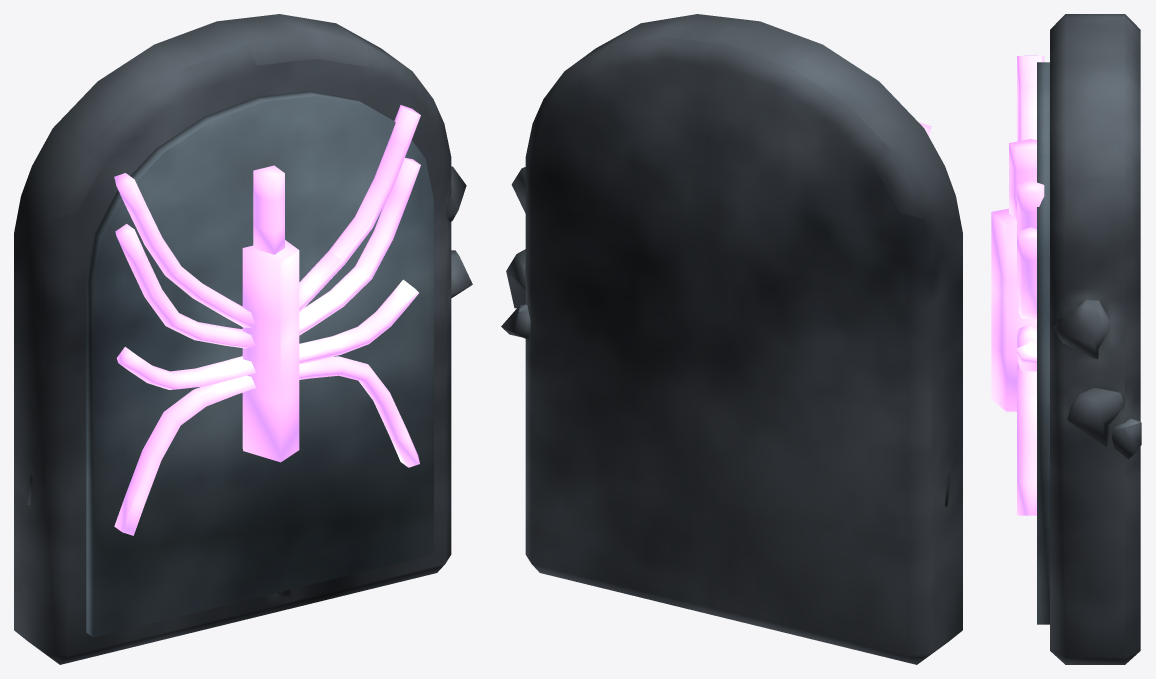
Rendered from RuneSpider.fbx.
3 renders of one model, left to right at view 1: azimuth 30°, elevation 25°; view 2: azimuth 150°, elevation 25°; view 3: azimuth 270°, elevation 25°, orthographic. The views are drawn at different scales.
Parts seen in each view (by area): view 1: RuneSpider; view 2: RuneSpider; view 3: RuneSpider.
Boxes of the visible parts, bbox=[...] form: RuneSpider: bbox=[14, 14, 472, 664]; RuneSpider: bbox=[501, 14, 962, 664]; RuneSpider: bbox=[991, 14, 1141, 664].
Size of the model in its own units: 0.3676 by 0.46 by 0.1163.
